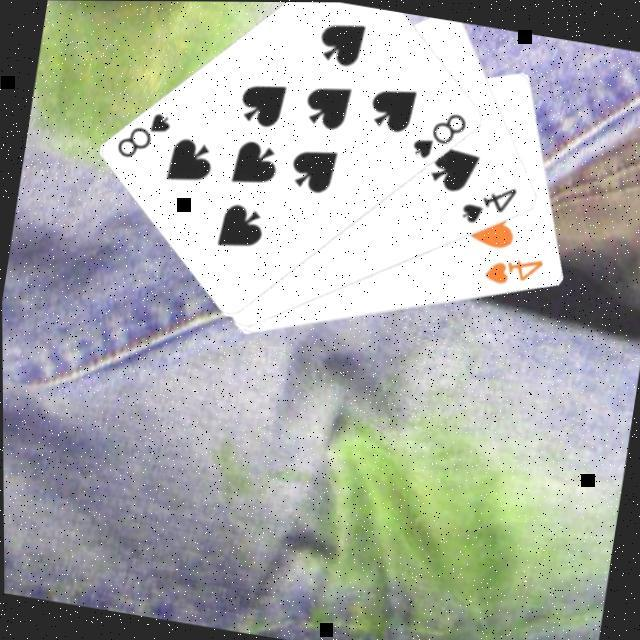4H: (476, 248, 546, 294)
4S: (454, 178, 519, 234)
8S: (110, 104, 176, 168), (406, 104, 470, 168)
